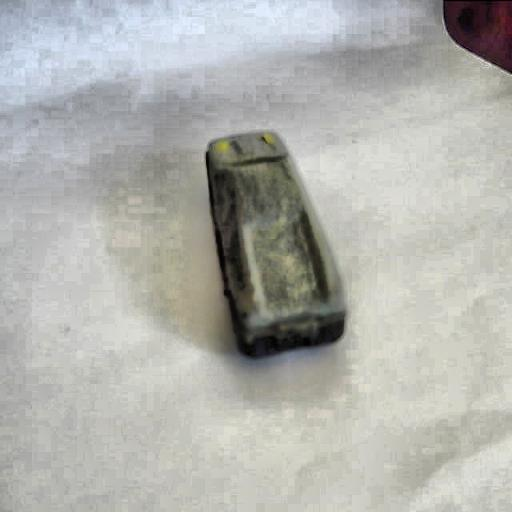normal_car: (202, 129, 348, 362)
